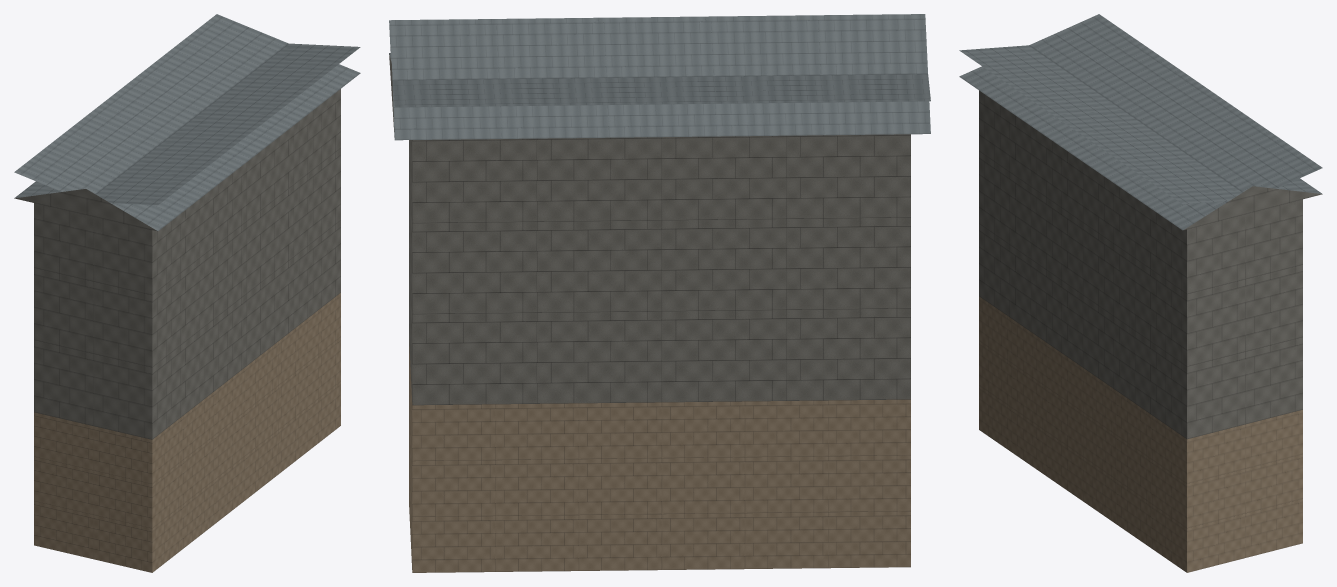
The model's file is bld_c7_16_427.gltf.
3 renders of one model, left to right at view 1: azimuth 30°, elevation 25°; view 2: azimuth 150°, elevation 25°; view 3: azimuth 270°, elevation 25°, orthographic. The views are drawn at different scales.
Visible parts, largest first — view 1: bld_c7_16_427; view 2: bld_c7_16_427; view 3: bld_c7_16_427.
Part boxes in pixels (<box>): bld_c7_16_427: <box>14,14,360,572</box>; bld_c7_16_427: <box>389,14,930,572</box>; bld_c7_16_427: <box>959,14,1322,572</box>.
Size of the model in its own units: 15.58 by 14.4 by 12.59.
4 materials, 4 textured.
